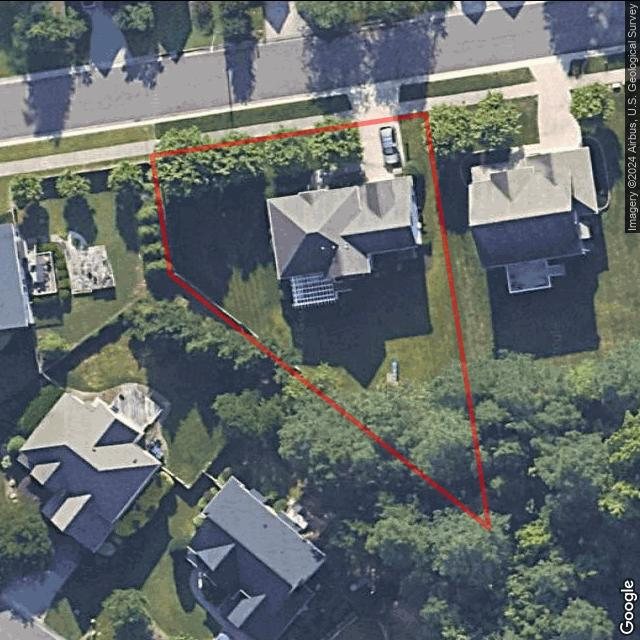Driveway: (358, 118, 406, 182)
Extra-Driveway: (344, 79, 399, 123)
Extra-Lawn: (149, 93, 352, 140), (400, 84, 424, 102)
Extra-Sidewalk: (149, 109, 357, 154), (399, 97, 425, 117)
House: (266, 174, 422, 279)
Lawn: (151, 113, 489, 527)
Other: (334, 359, 489, 527), (290, 272, 354, 308), (323, 172, 362, 189), (386, 360, 399, 394)
Sidewalk: (310, 159, 360, 188)
